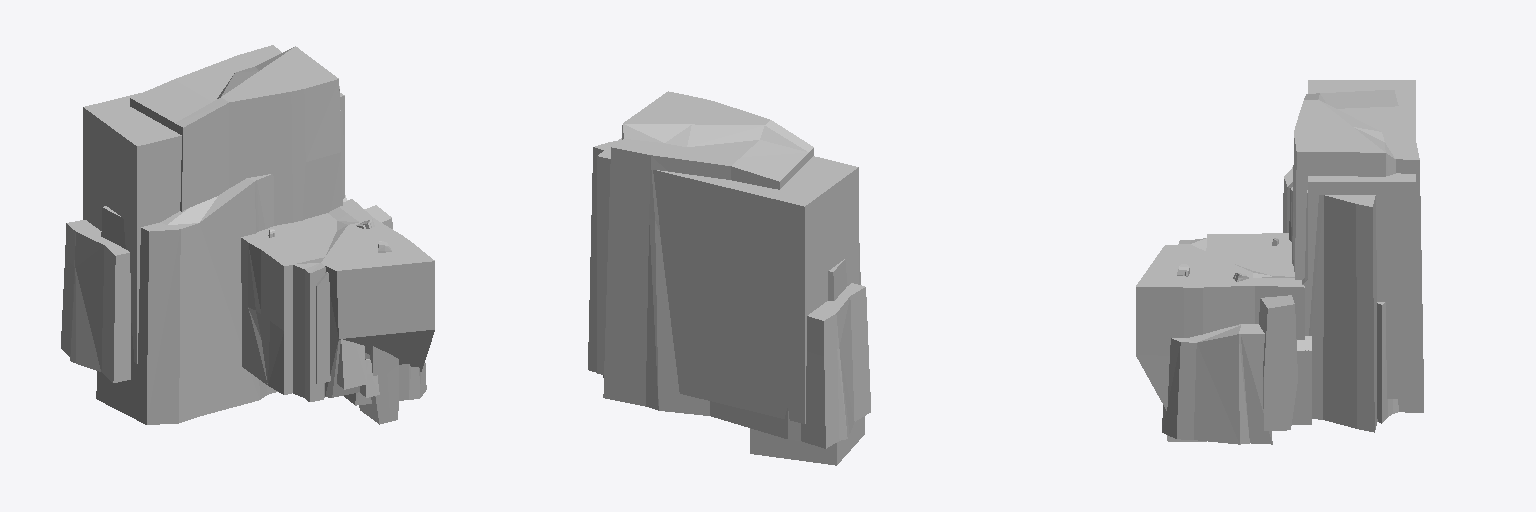
File: cliff_1110_1100.obj
The picture shows the model from 3 angles: view 1: azimuth 30°, elevation 25°; view 2: azimuth 150°, elevation 25°; view 3: azimuth 270°, elevation 25°; orthographic projection.
Visible parts, largest first — view 1: tile_1110_1100; view 2: tile_1110_1100; view 3: tile_1110_1100.
Part boxes in pixels (bbox=[...]): tile_1110_1100: bbox=[61, 45, 434, 424]; tile_1110_1100: bbox=[588, 91, 870, 465]; tile_1110_1100: bbox=[1136, 80, 1423, 444].
Size of the model in its own units: 2.55 by 2.73 by 2.41.